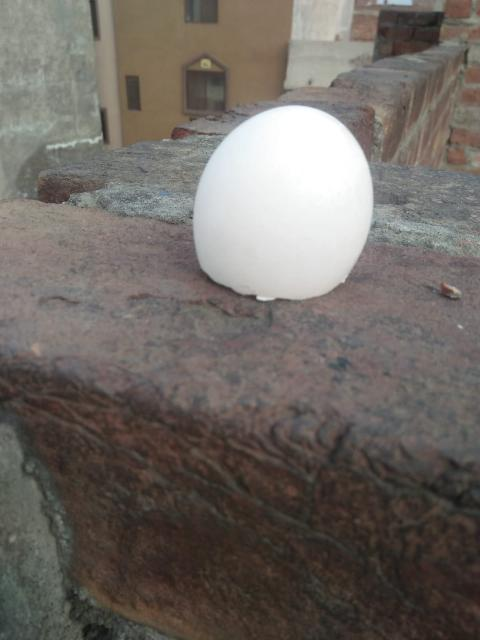Roto: (191, 103, 373, 302)
